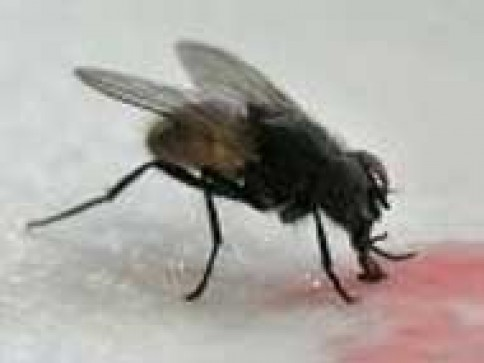fly: (17, 37, 424, 321)
